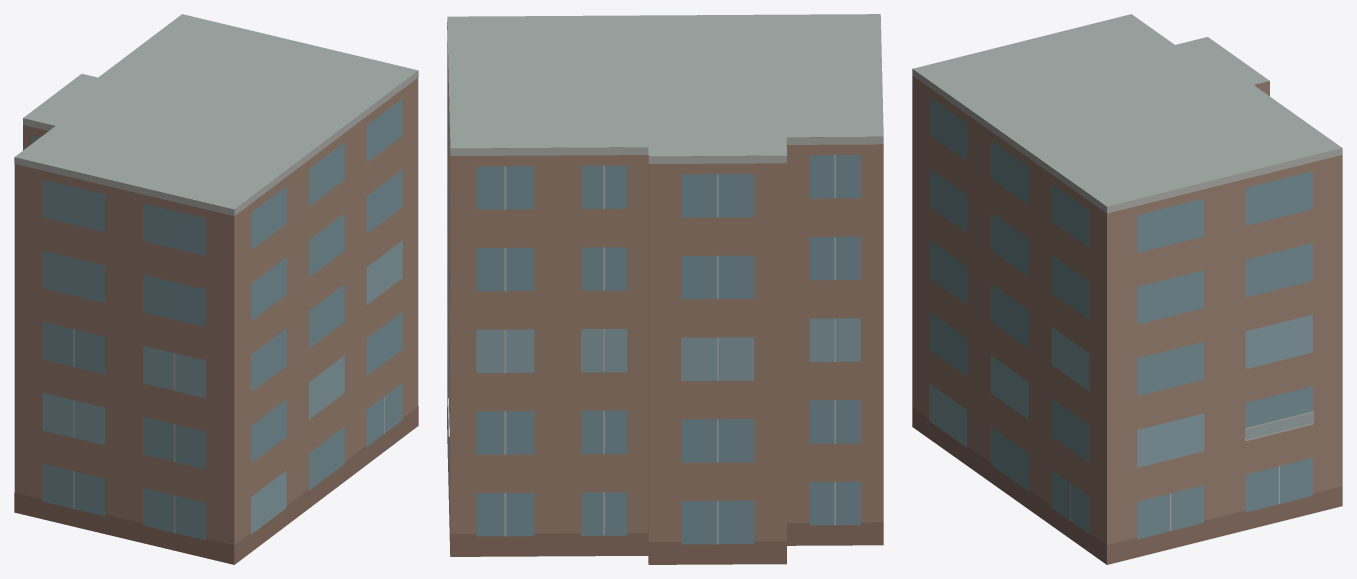
The model's file is survey-upis-32743128.glb.
The picture shows the model from 3 angles, left to right: view 1: azimuth 30°, elevation 25°; view 2: azimuth 150°, elevation 25°; view 3: azimuth 270°, elevation 25°; orthographic projection. The views are drawn at different scales.
Parts seen in each view (by area): view 1: survey-upis-32743128.tmp; view 2: survey-upis-32743128.tmp; view 3: survey-upis-32743128.tmp.
Part boxes in pixels (x1,y1,x2,y2): survey-upis-32743128.tmp: [14, 14, 418, 564]; survey-upis-32743128.tmp: [447, 14, 883, 564]; survey-upis-32743128.tmp: [912, 14, 1342, 564].
Bounding box in the file's own units: 14.84 × 12.85 × 13.99.
